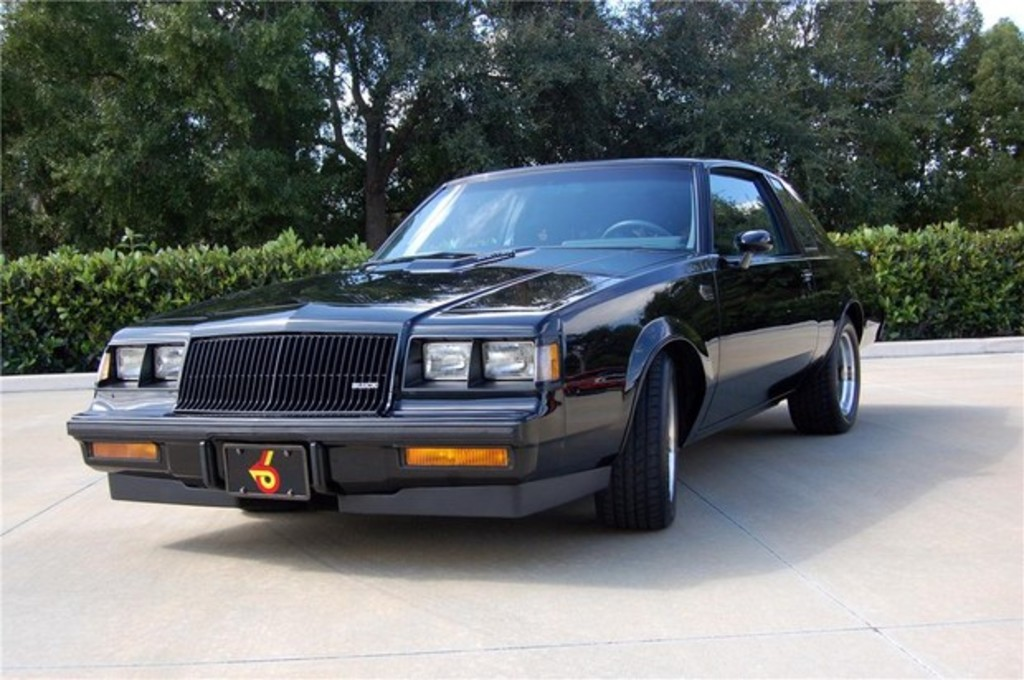Car: (65, 157, 884, 531)
